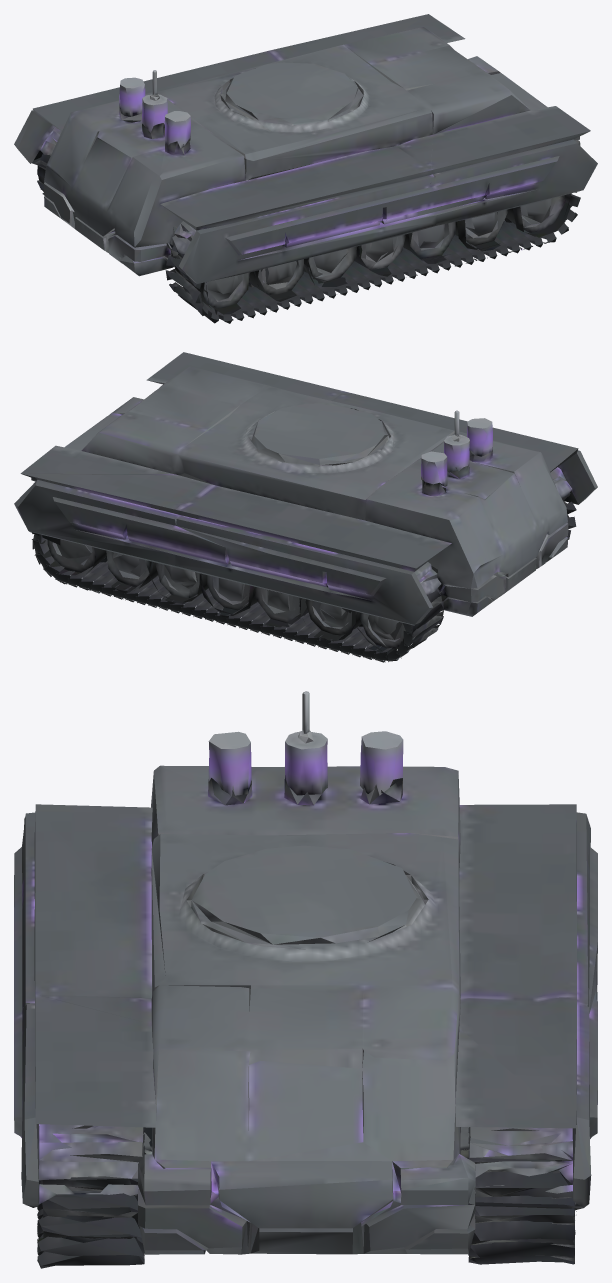
File: chassis-titan-1-light.glb
The picture shows the model from 3 angles, top to bottom: view 1: azimuth 30°, elevation 25°; view 2: azimuth 150°, elevation 25°; view 3: azimuth 270°, elevation 25°; orthographic projection. The views are drawn at different scales.
Parts seen in each view (by area): view 1: chassis-titan-1-light; view 2: chassis-titan-1-light; view 3: chassis-titan-1-light.
Boxes of the visible parts, x1,y1,x2,y2 form: chassis-titan-1-light: [14, 14, 597, 323]; chassis-titan-1-light: [14, 352, 597, 662]; chassis-titan-1-light: [14, 691, 597, 1268].
Size of the model in its own units: 2.9 by 1.21 by 1.99.
Materials: 1 (1 with a texture image).
